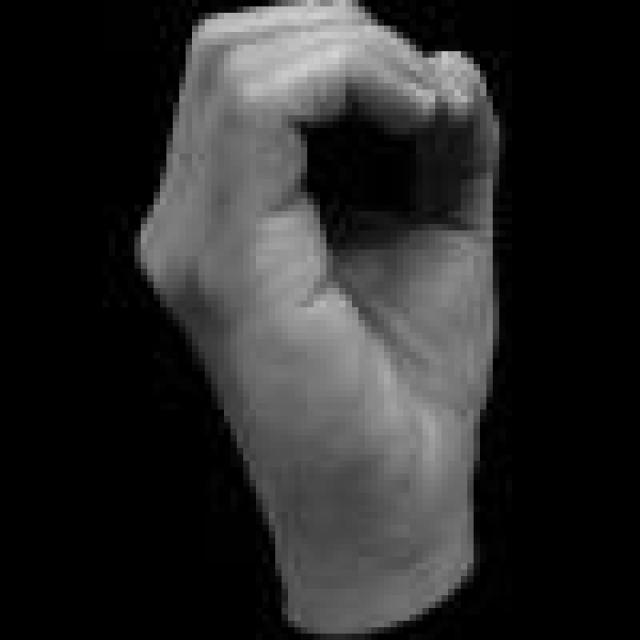O: (96, 0, 518, 634)
